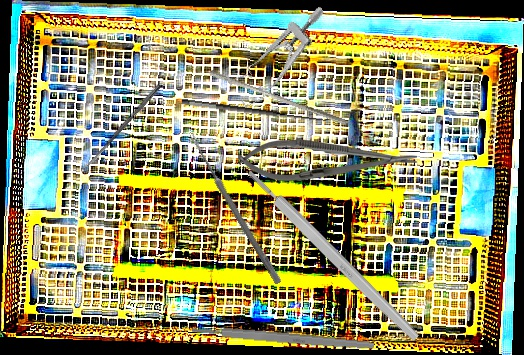Hook Surgical: (181, 86, 330, 128)
Needle Holder: (238, 138, 417, 183)
Pusher: (206, 69, 352, 126)
Scalpel Handle: (244, 166, 422, 344), (191, 324, 375, 351)
Speculum: (218, 4, 346, 110)
Surgical Spoon: (187, 133, 283, 285), (81, 83, 162, 172)
